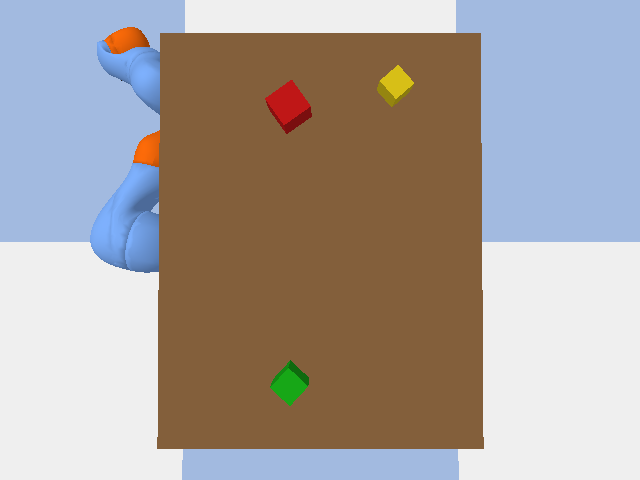green_obj: (270, 360, 308, 405)
red_obj: (265, 80, 311, 133)
yellow_obj: (377, 65, 413, 106)
